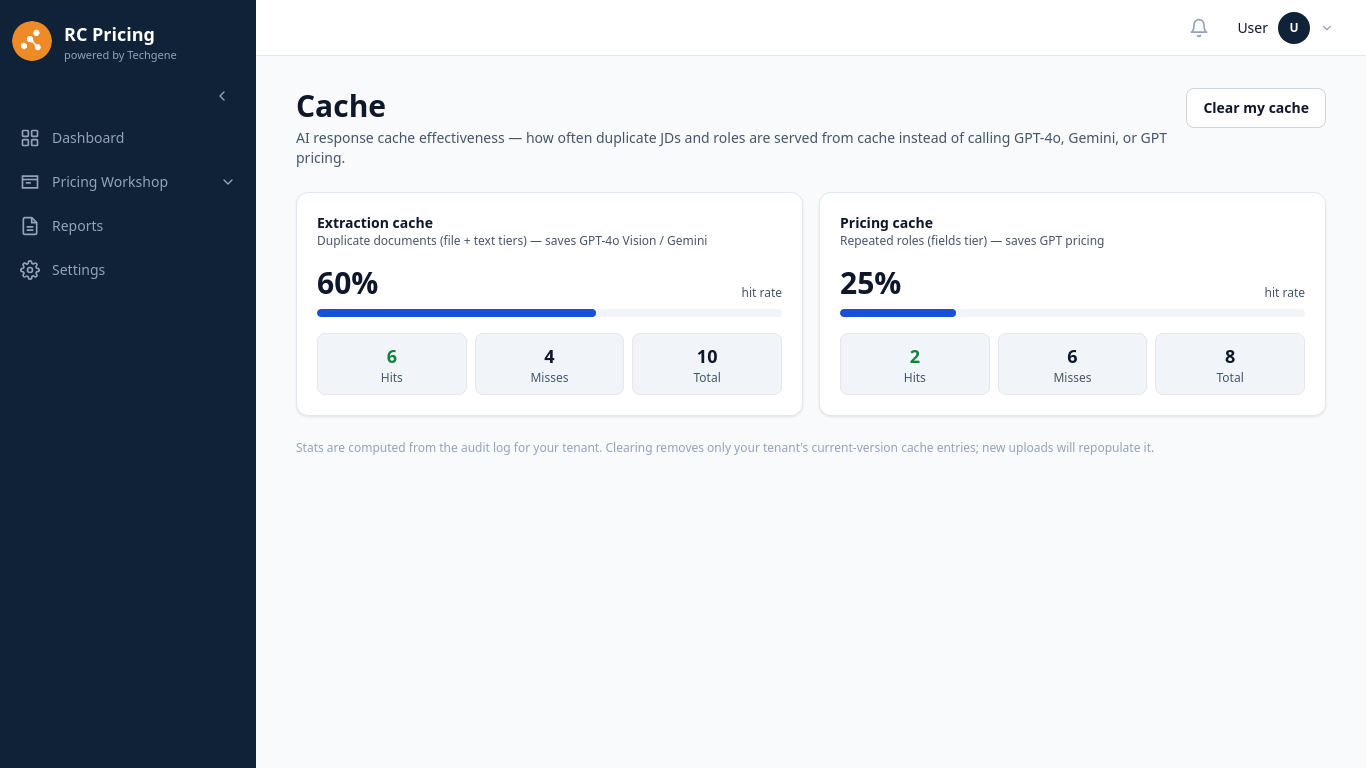
Scenario: CacheView › cancelling does not clear
The width and height of the screenshot is (1366, 768).
Expected: the text "60%" is shown, x1=317 y1=265 x2=378 y2=301
Click the button "Clear my cache".
click(1256, 108)  # box x1=1186 y1=88 x2=1326 y2=128
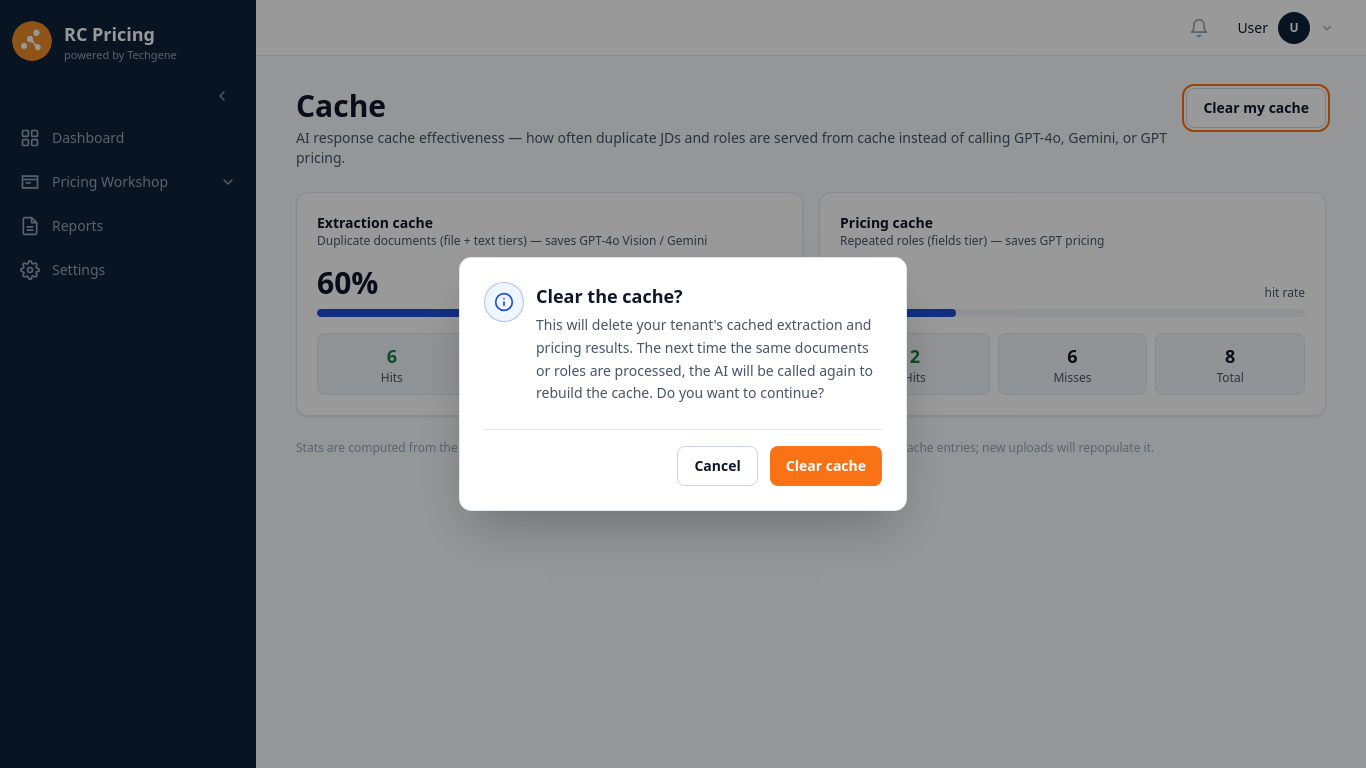
Click the button "Cancel".
click(718, 466)  # box x1=678 y1=446 x2=758 y2=486
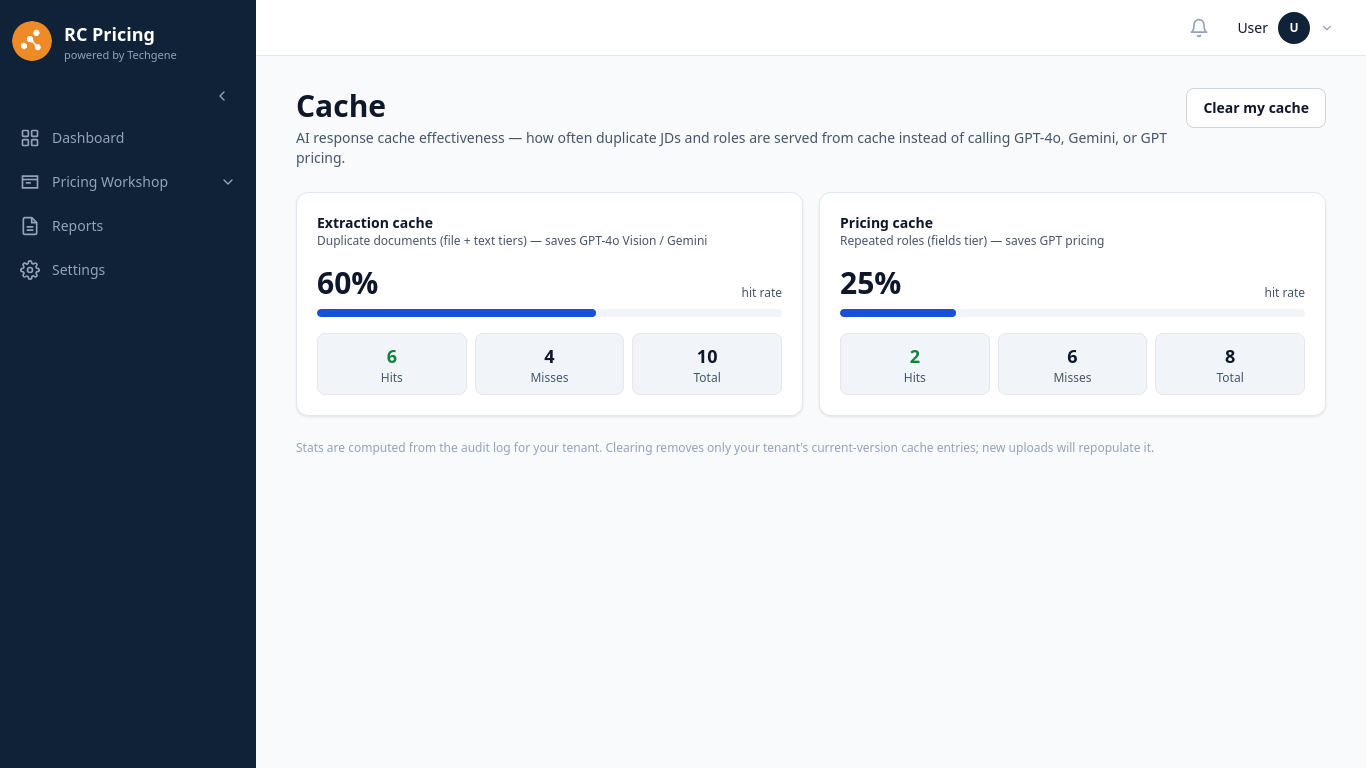
Expected: the dialog is gone
